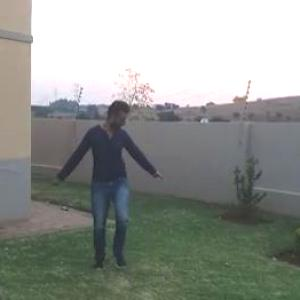land: (39, 95, 187, 293)
